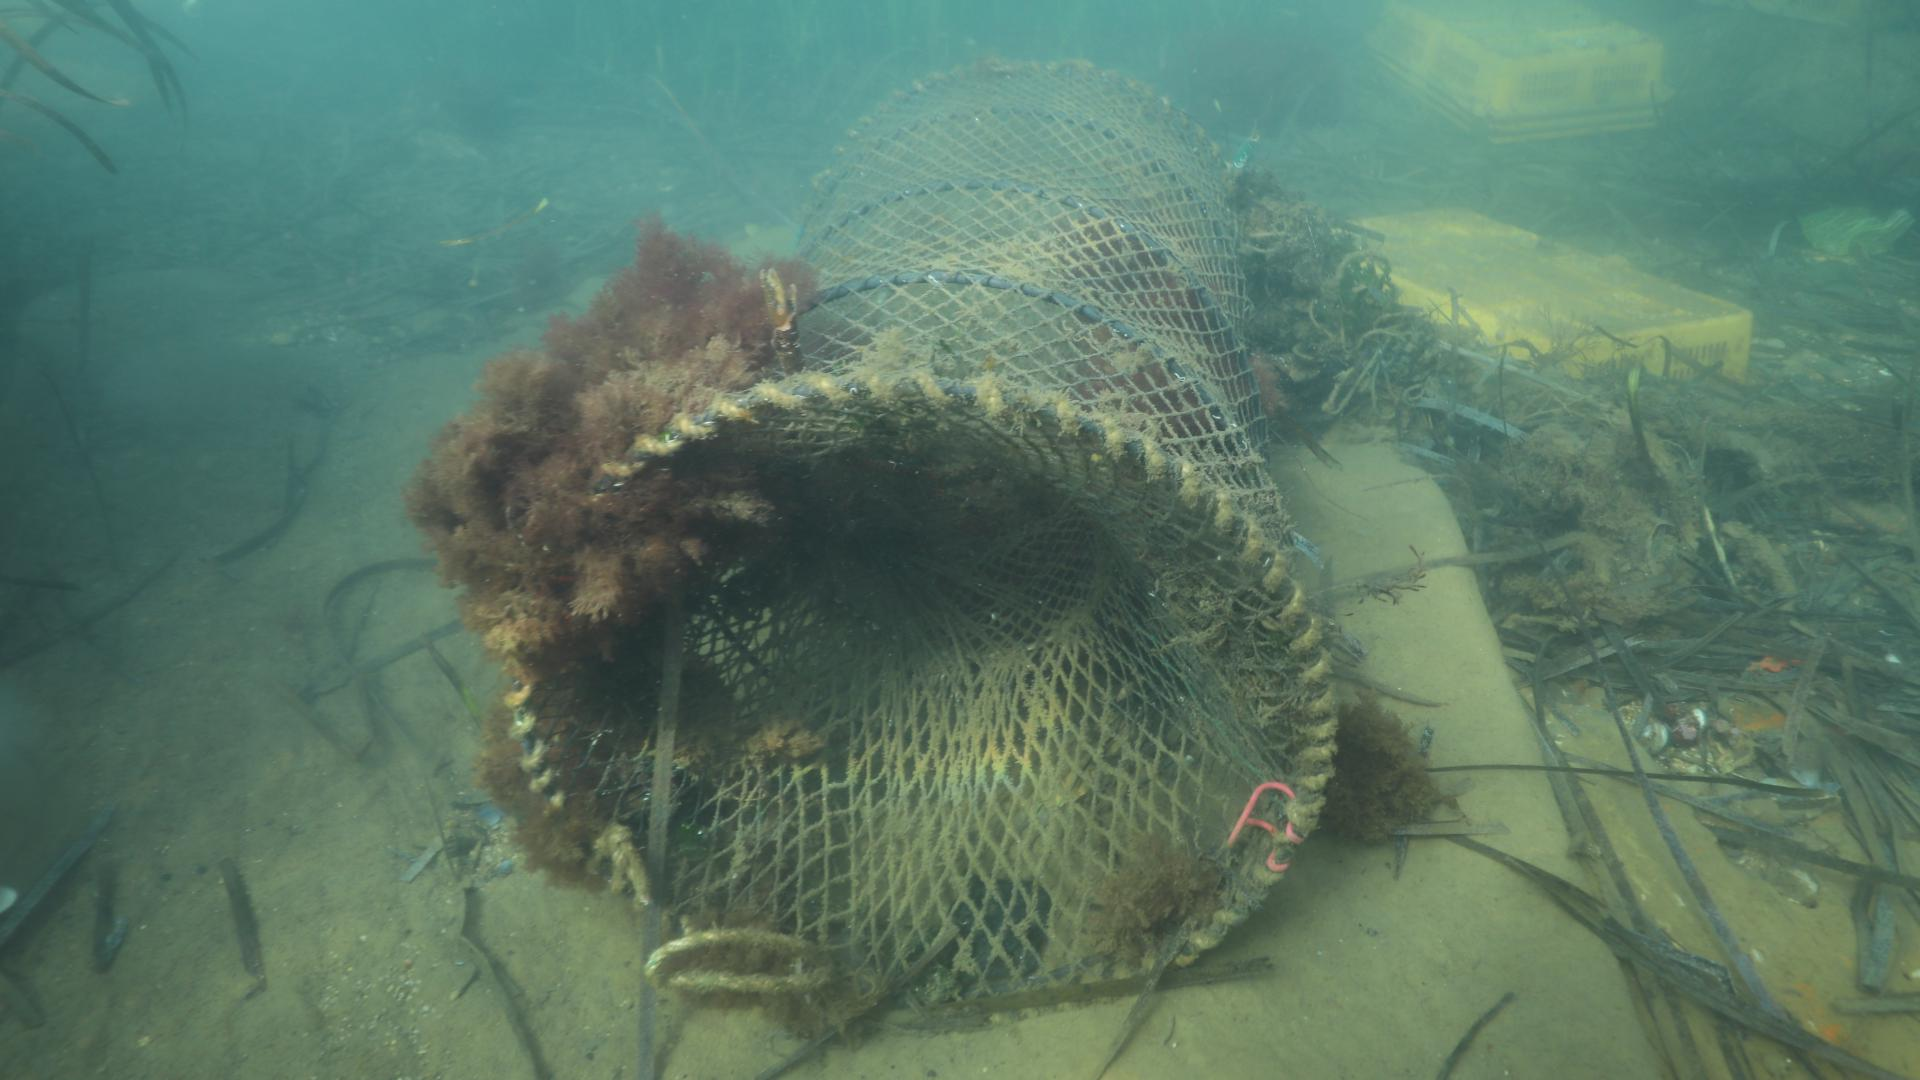spring fish trap: (500, 57, 1337, 1025)
